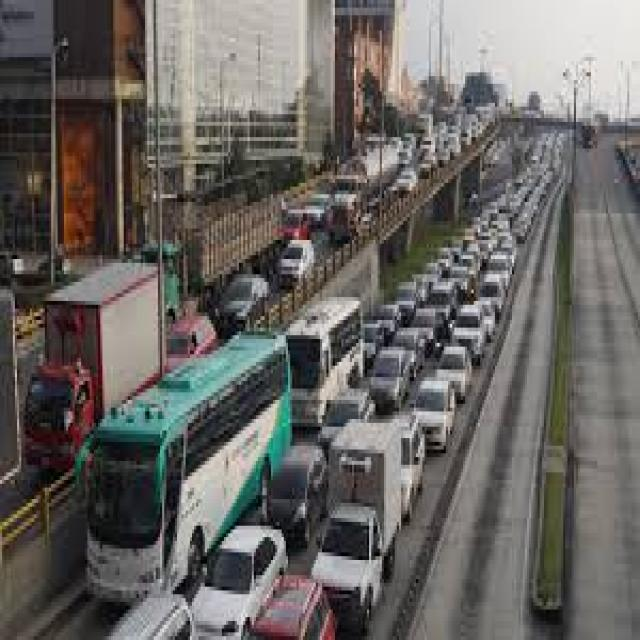BUS: (85, 338, 282, 604), (282, 299, 360, 431)
